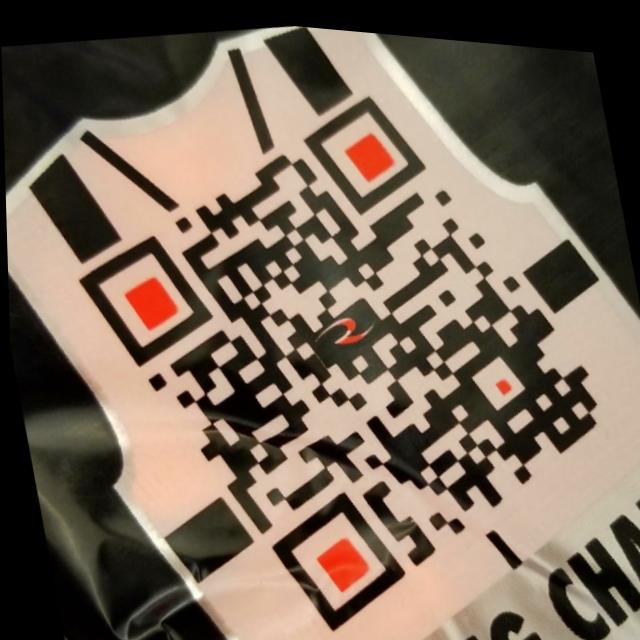QR_CODE: (28, 28, 640, 640)
